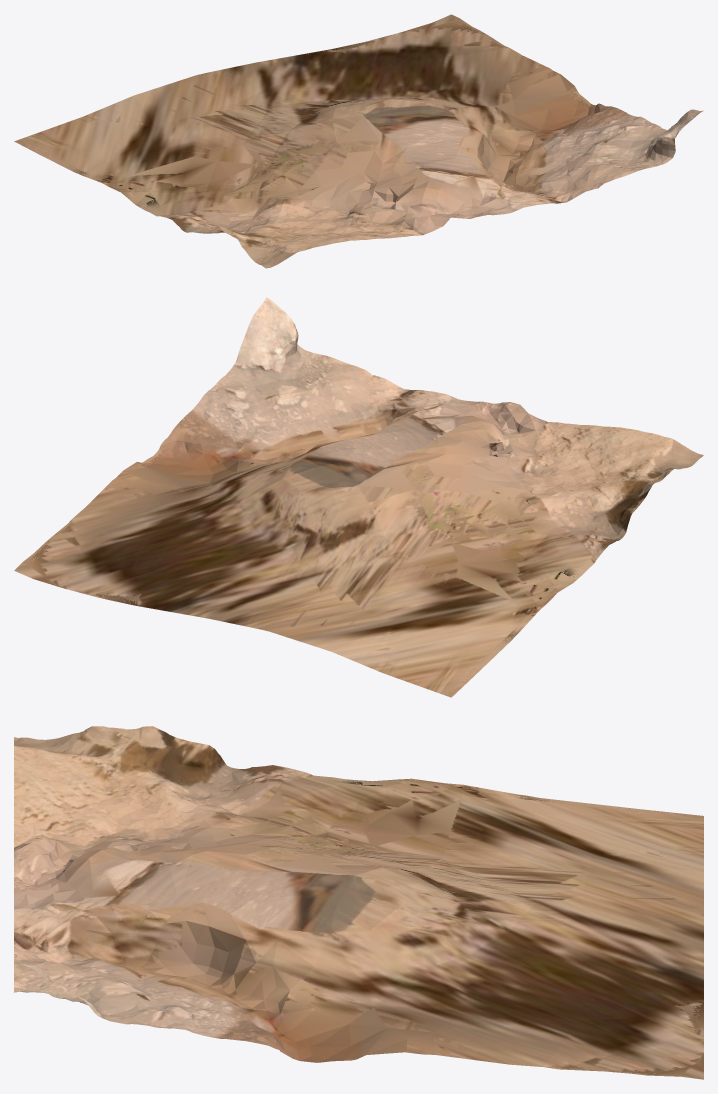
The picture shows the model from 3 angles, top to bottom: view 1: azimuth 30°, elevation 25°; view 2: azimuth 150°, elevation 25°; view 3: azimuth 270°, elevation 25°; orthographic projection. The views are drawn at different scales.
Size of the model in its own units: 2.09 by 0.497 by 2.09.
Materials: 2 (2 with a texture image).
